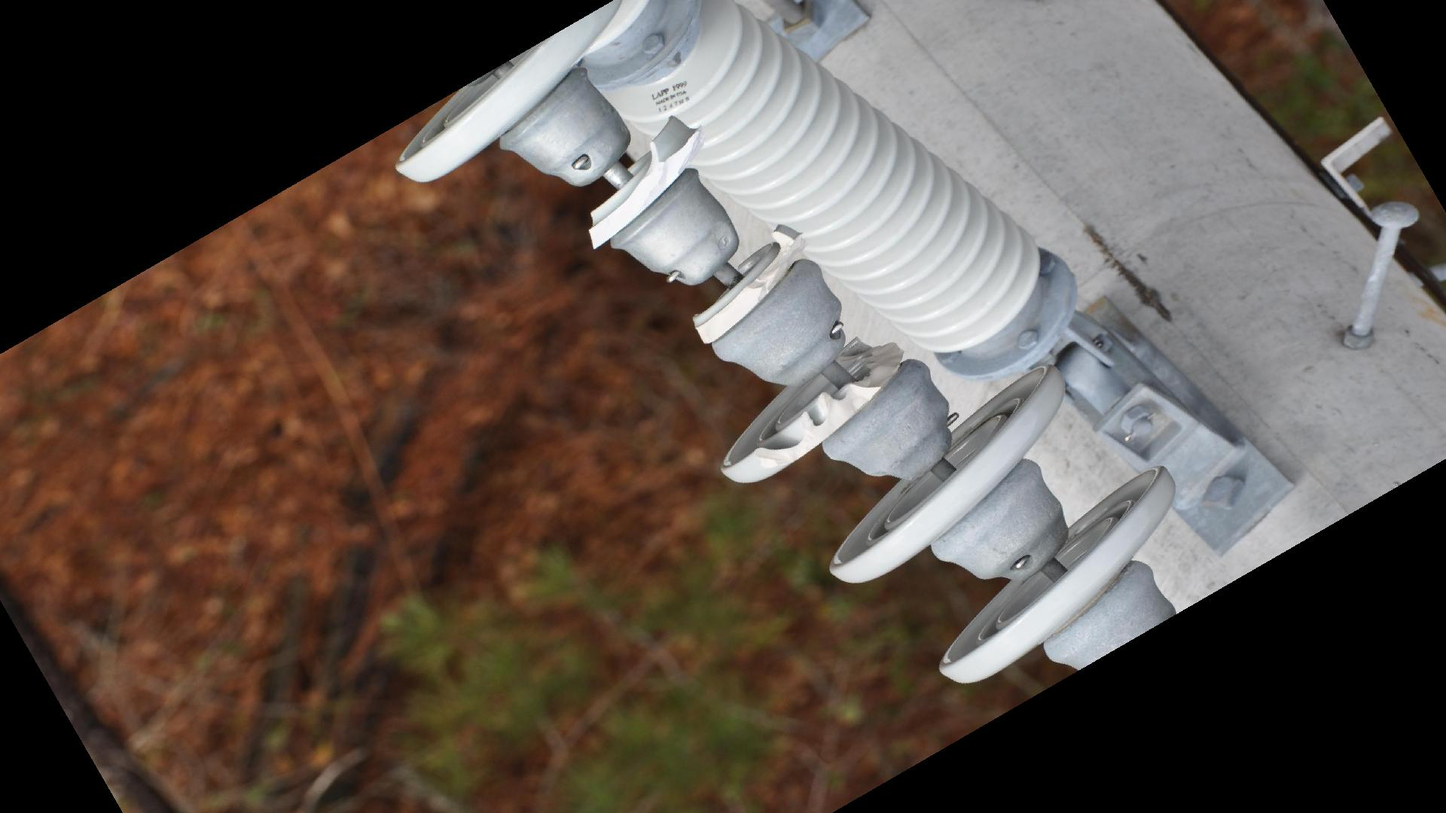insulator: (385, 4, 1185, 690), (599, 7, 1051, 361)
insulator_breakage: (750, 331, 909, 474), (584, 111, 704, 256), (689, 219, 806, 349)
